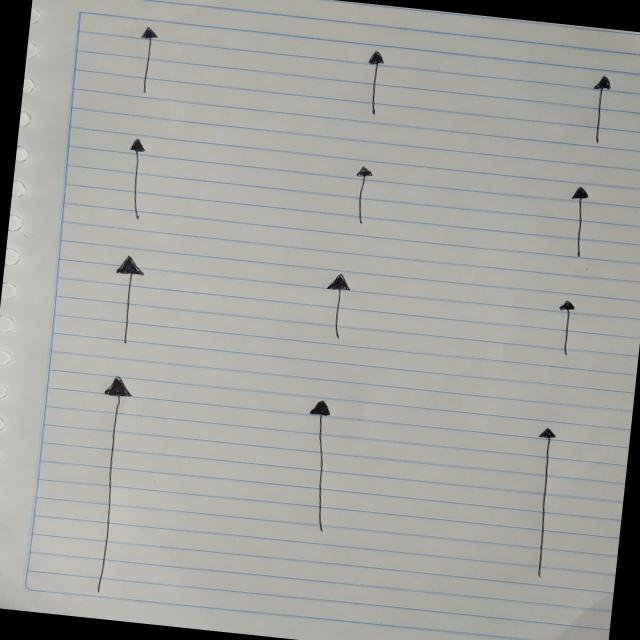arrow_line_up: (81, 374, 134, 594), (295, 397, 340, 533), (522, 426, 560, 582), (106, 253, 146, 347), (120, 137, 148, 222), (319, 270, 352, 340), (130, 24, 160, 96), (564, 185, 591, 258), (586, 74, 612, 145), (360, 49, 388, 114), (350, 163, 374, 226), (553, 298, 577, 356)
